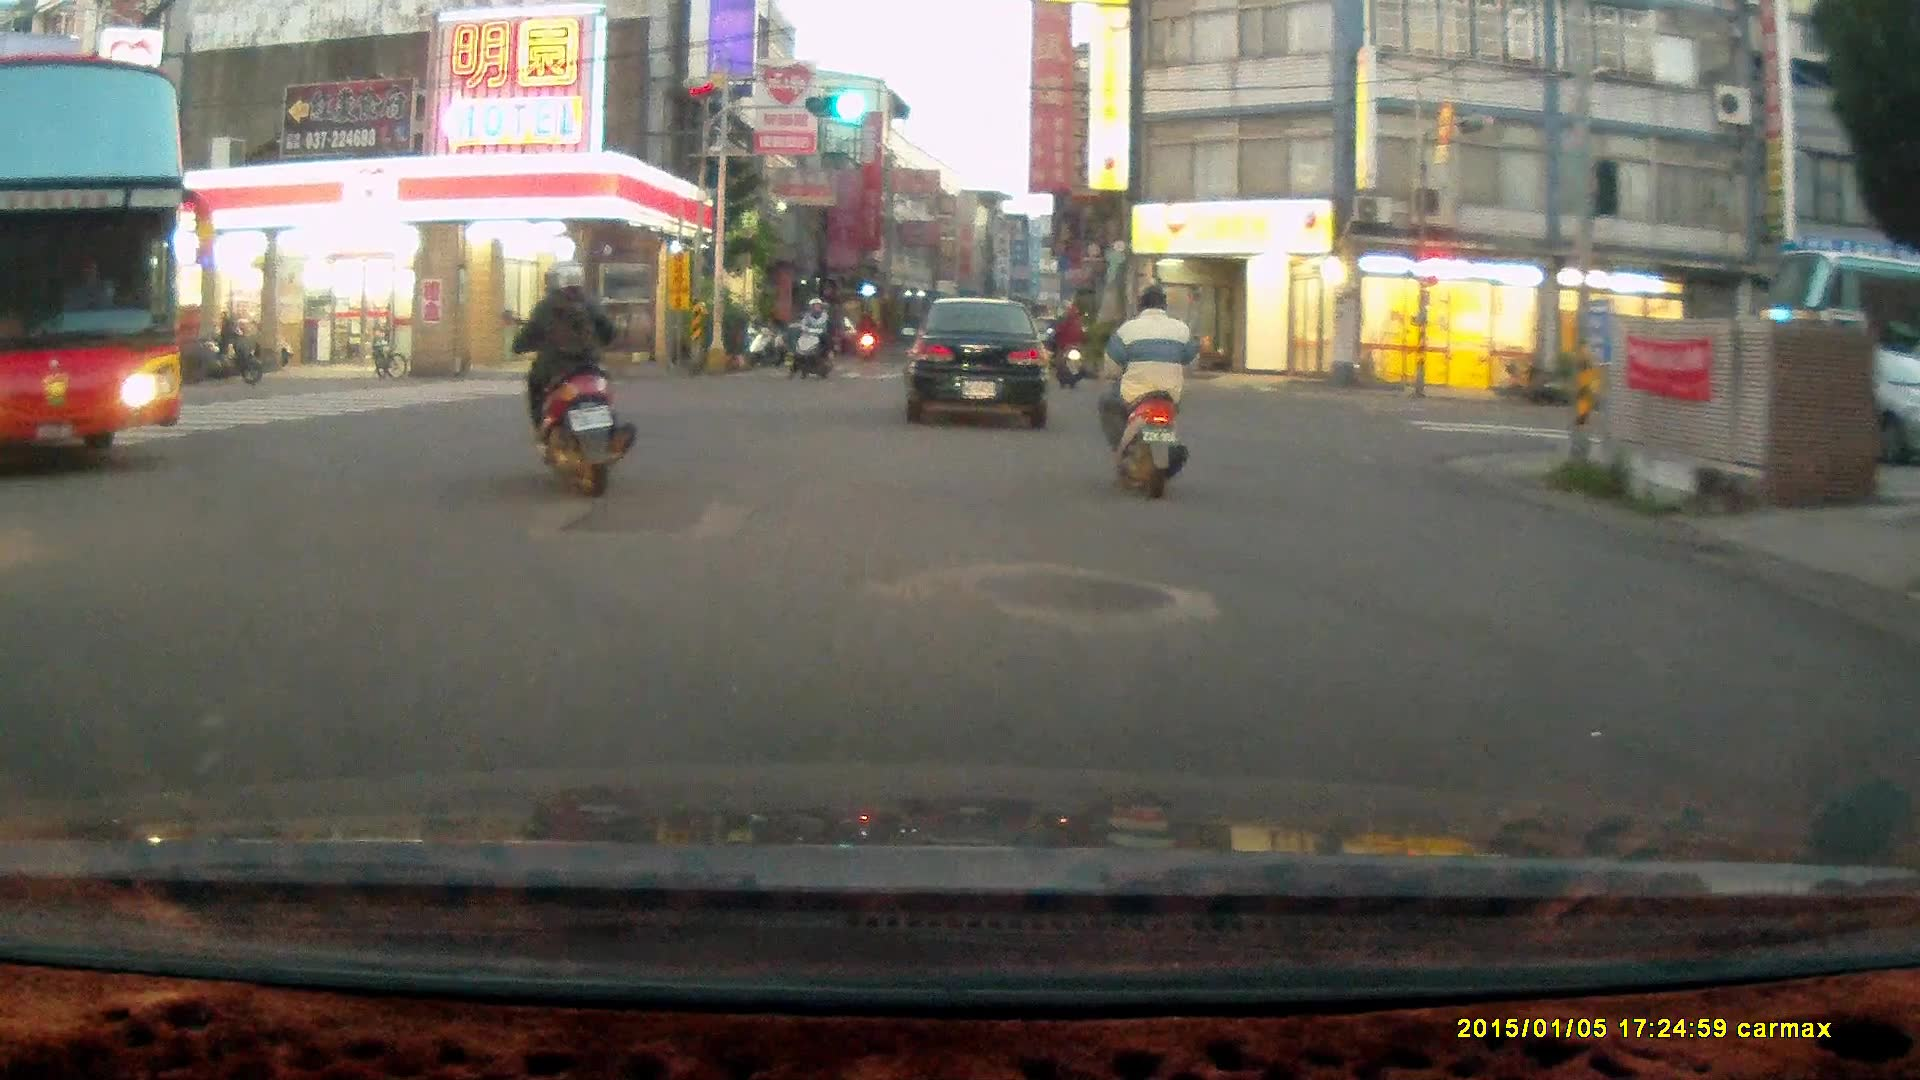rider: (502, 253, 638, 494), (1099, 283, 1199, 500), (790, 294, 840, 378), (1048, 298, 1087, 389)
vehicle: (1, 47, 187, 464), (1717, 342, 1920, 467), (908, 295, 1053, 431)
